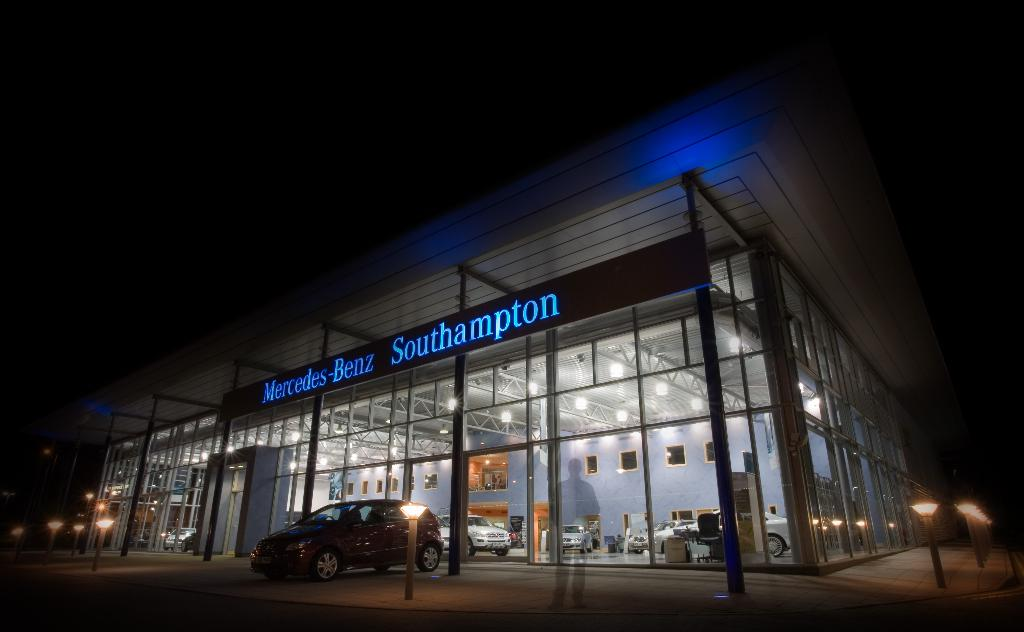Car: (244, 498, 444, 591), (452, 512, 511, 558), (630, 512, 697, 549), (762, 511, 793, 558), (561, 519, 590, 549), (162, 525, 191, 553)
